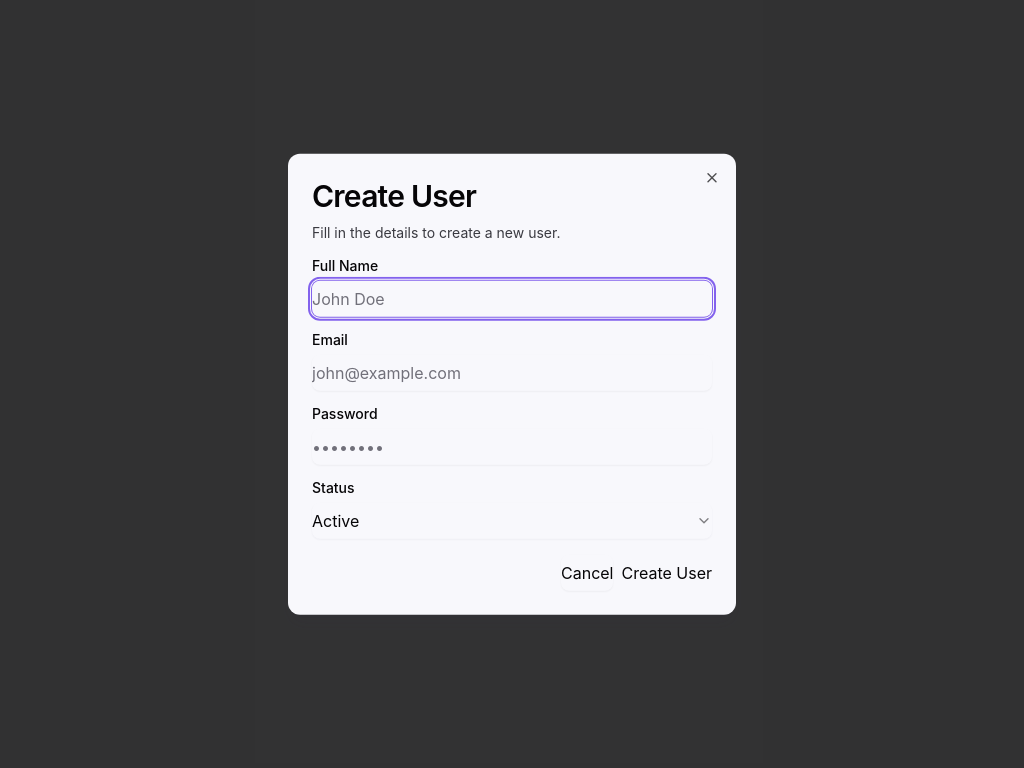
it: UserFormDialog › shows validation errors for empty required fields
Click the button "Create User".
click(667, 572)  # box [622,554,712,590]
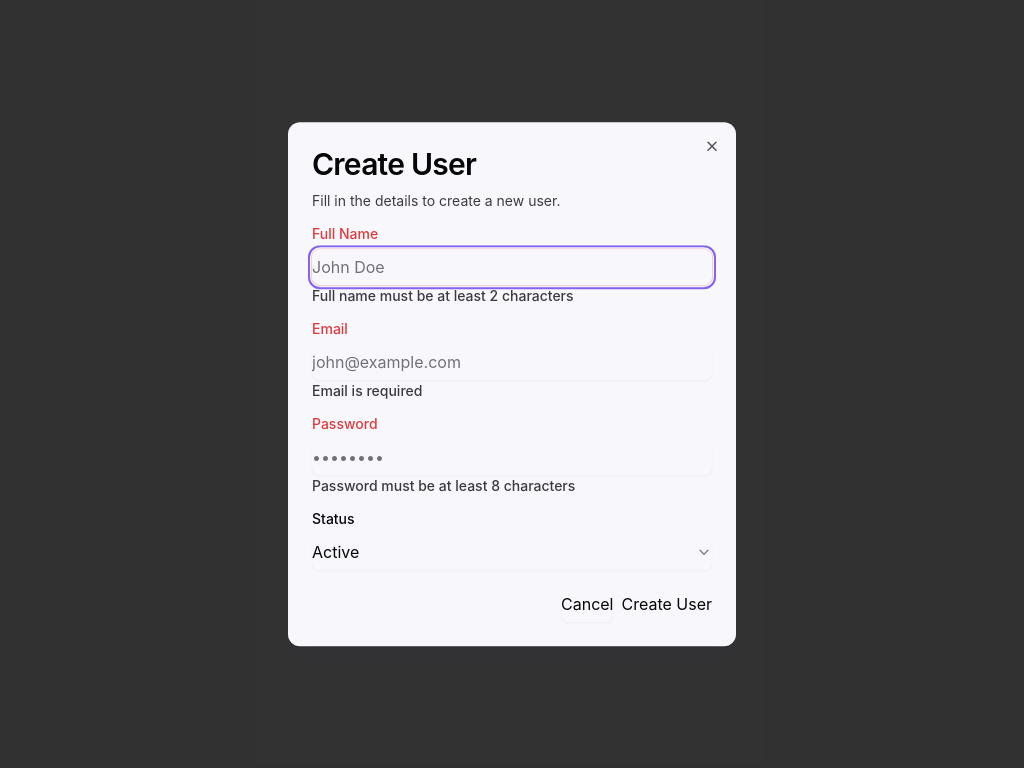
Check: the text "Email is required" is shown, box [312,382,422,399]
